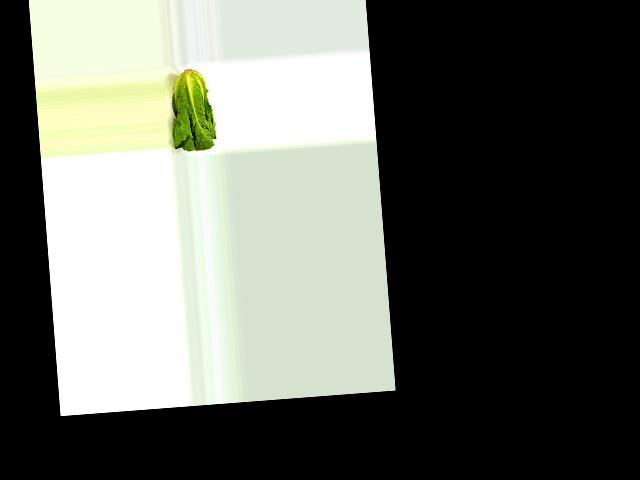lettuce: (167, 66, 218, 152)
